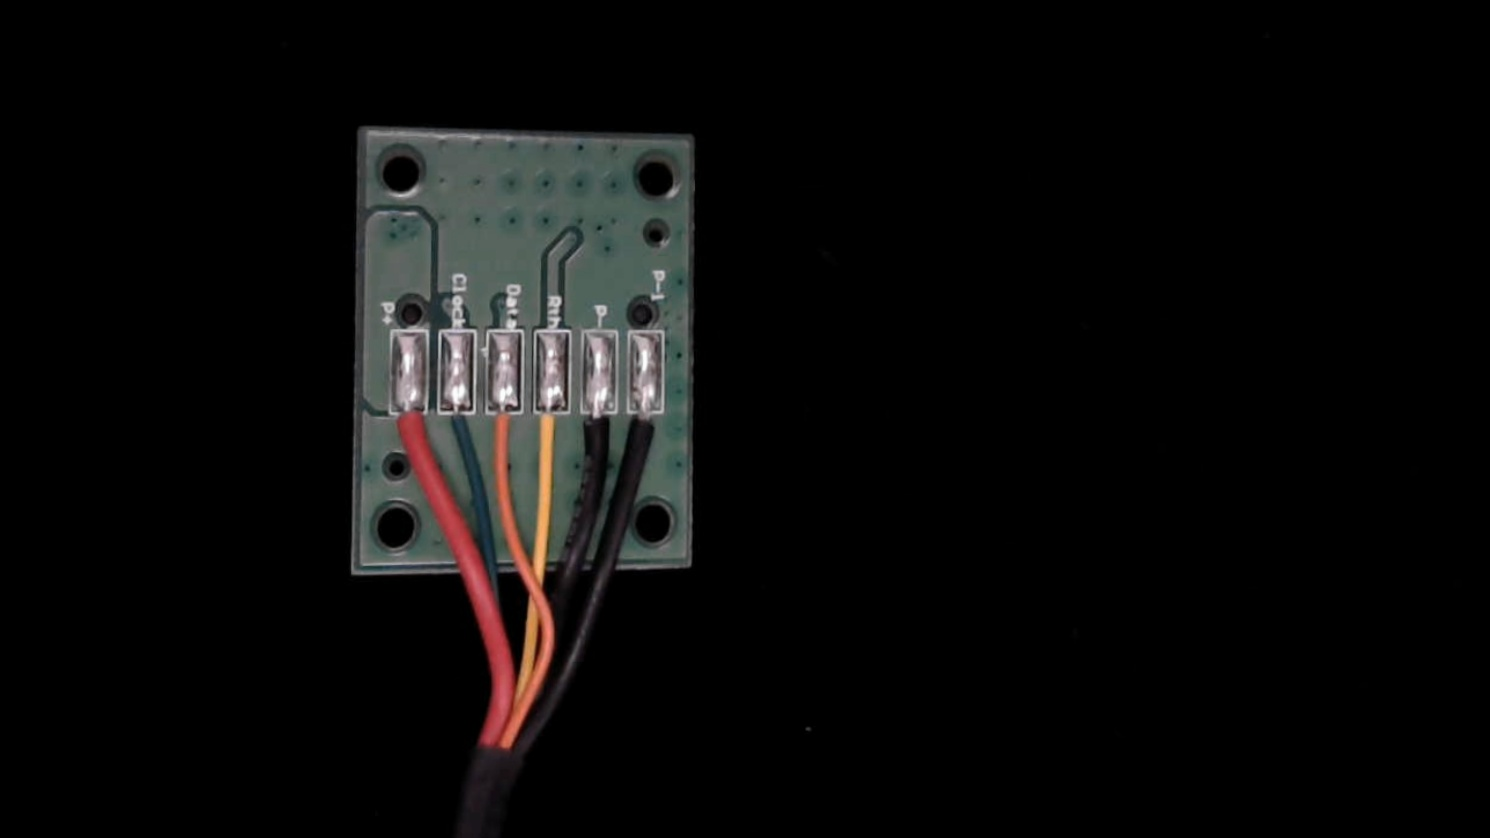Black: (578, 386, 617, 477)
Black1: (625, 387, 665, 482)
Green: (440, 387, 479, 478)
Orange: (483, 387, 522, 480)
Red: (391, 389, 431, 479)
Yellow: (534, 386, 567, 472)
